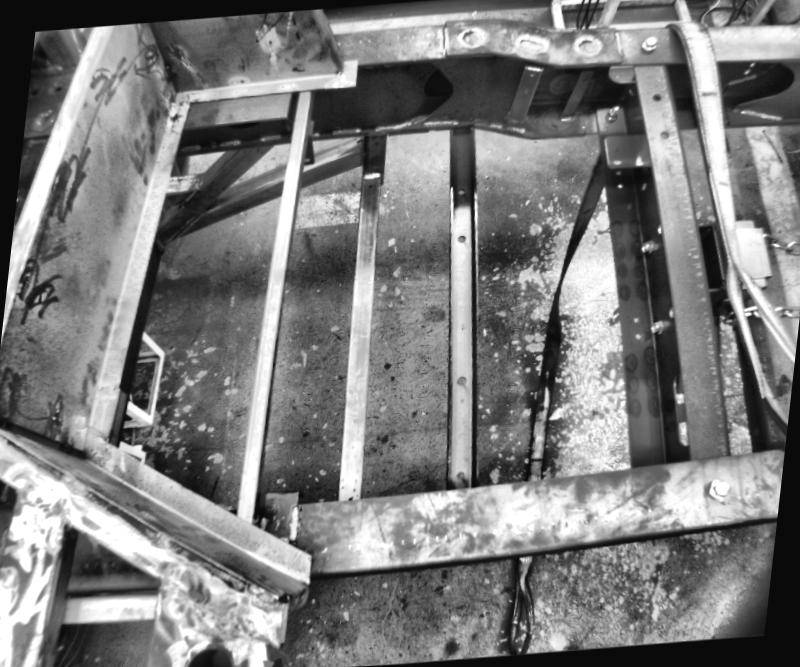bolt: (706, 479, 732, 502), (637, 35, 660, 57), (604, 108, 620, 125), (650, 320, 667, 336), (640, 240, 654, 255)
bracket: (256, 480, 314, 537), (551, 68, 593, 129), (505, 65, 543, 132), (598, 134, 654, 174), (298, 120, 324, 171)
hole: (180, 642, 242, 666), (454, 375, 469, 388), (454, 470, 466, 483), (650, 92, 661, 102), (659, 131, 670, 140), (630, 316, 642, 324), (457, 186, 466, 195), (456, 234, 466, 242), (634, 331, 642, 340), (612, 148, 620, 156), (366, 182, 374, 189), (305, 160, 313, 166), (354, 138, 362, 144)
